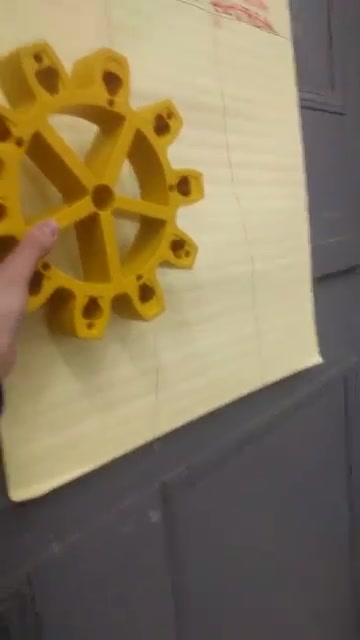gear: (1, 25, 225, 345)
